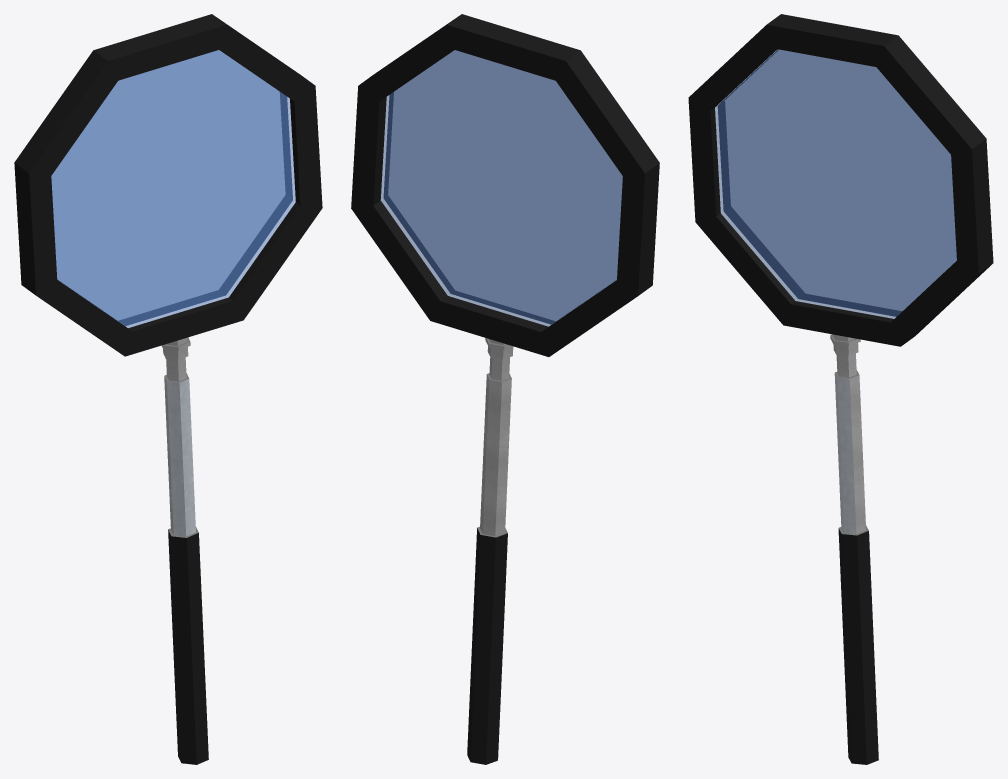
The picture shows the model from 3 angles, left to right: view 1: azimuth 30°, elevation 25°; view 2: azimuth 150°, elevation 25°; view 3: azimuth 330°, elevation 25°; orthographic projection.
Size of the model in its own units: 2.75 by 6.56 by 0.2622.
5 materials, 2 textured.
